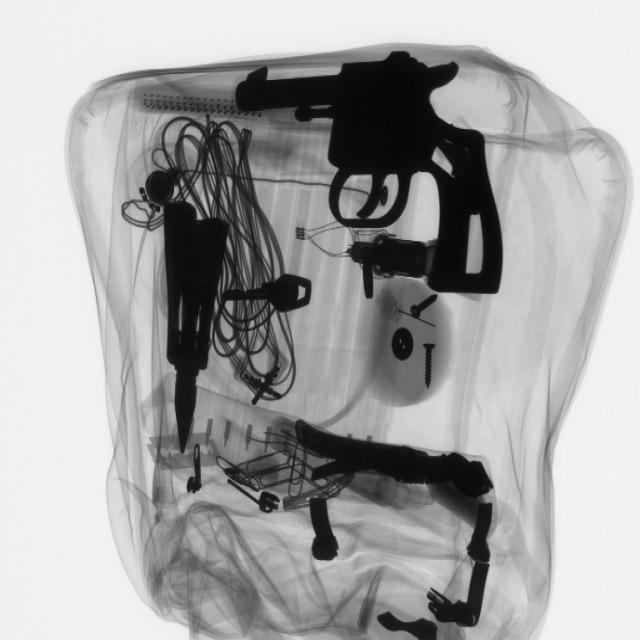GUN: (236, 55, 514, 301)
SCREW: (404, 285, 452, 331), (414, 335, 450, 395)
